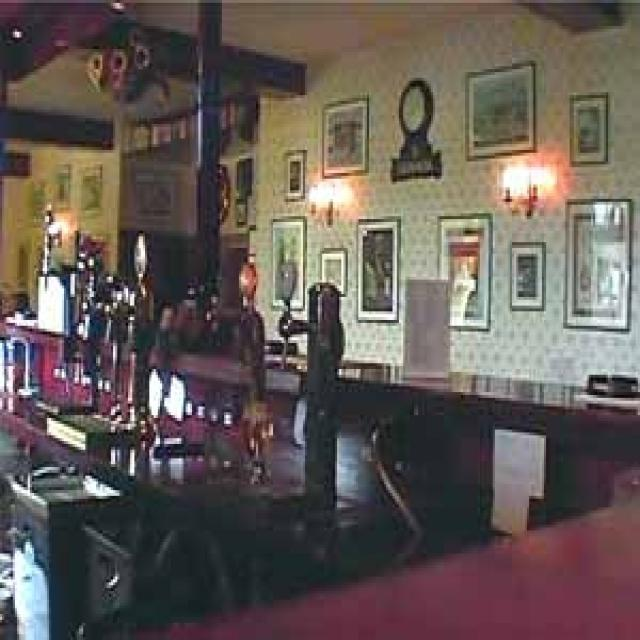bar stool: (0, 300, 636, 637)
clock crop: (390, 75, 437, 179)
column occluded: (190, 0, 220, 346)
lamp crop: (501, 164, 553, 216), (309, 179, 354, 225)
picture crop: (563, 196, 629, 329), (463, 58, 533, 159), (433, 210, 491, 329), (356, 216, 399, 317), (322, 92, 367, 176), (567, 89, 608, 164), (269, 216, 303, 306), (510, 239, 544, 308), (132, 170, 177, 219), (282, 147, 305, 199), (79, 164, 98, 210)
wall clock: (252, 0, 636, 383), (113, 92, 256, 326), (0, 127, 119, 313)
